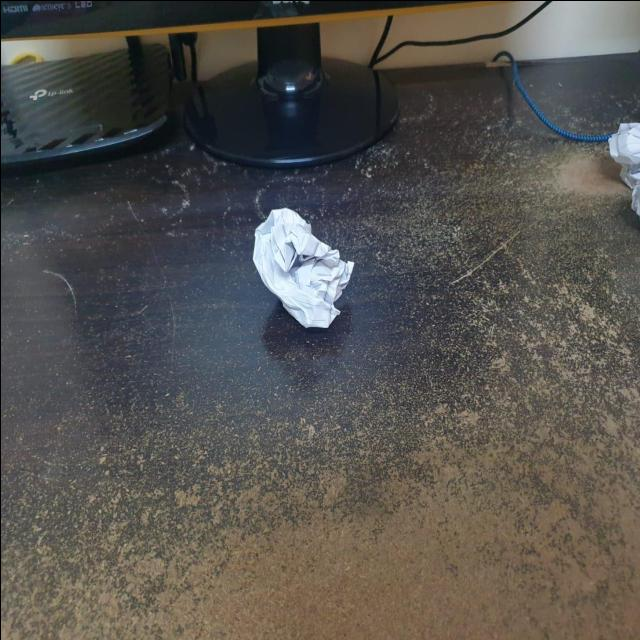kertas: (247, 196, 362, 336)
